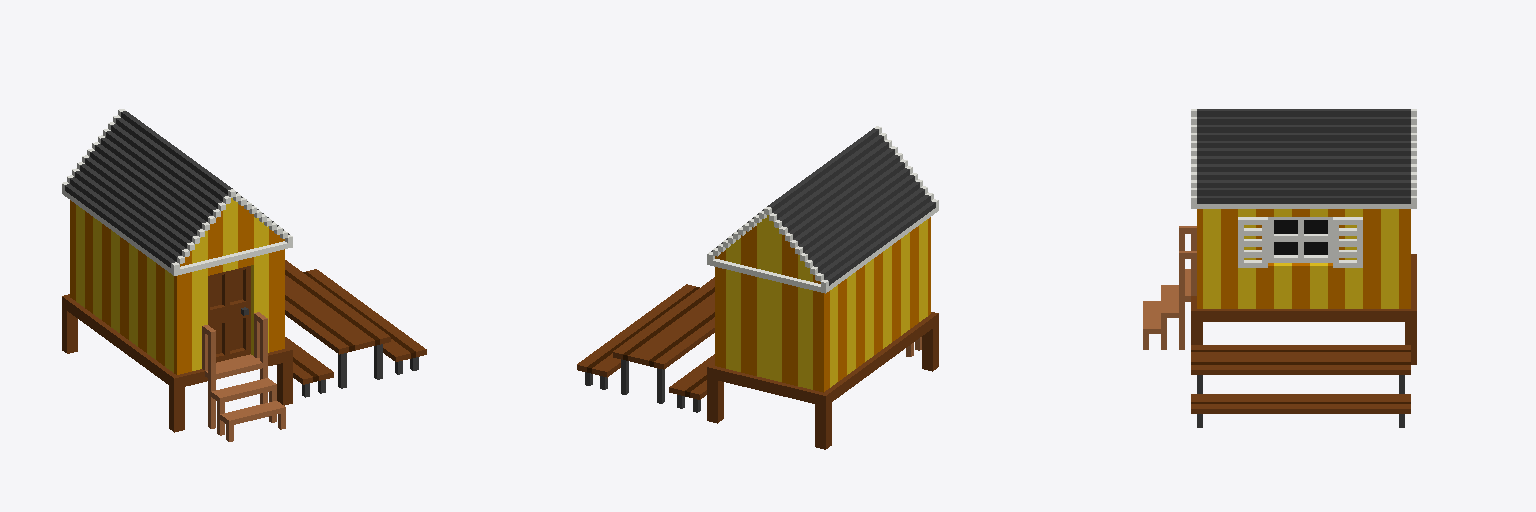
The picture shows the model from 3 angles: view 1: azimuth 30°, elevation 25°; view 2: azimuth 150°, elevation 25°; view 3: azimuth 270°, elevation 25°; orthographic projection.
Visible parts, largest first — view 1: object 1; view 2: object 1; view 3: object 1.
Part boxes in pixels (x1,y1,x2,y2): object 1: (62,109,426,441); object 1: (577,126,938,449); object 1: (1143,109,1416,427).
Bounding box in the file's own units: 4.9 × 4.2 × 4.6.
1 materials, 1 textured.